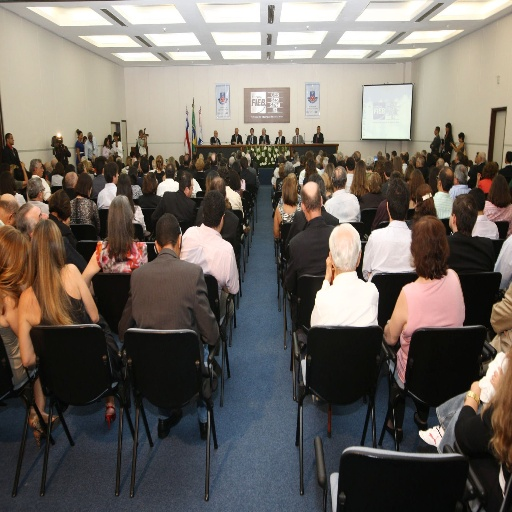hand: (489, 365, 503, 390), (324, 251, 334, 275), (19, 160, 25, 169), (449, 140, 453, 150), (475, 172, 480, 180), (140, 133, 145, 139), (60, 143, 64, 150), (114, 139, 118, 145), (143, 134, 148, 138), (263, 139, 267, 144), (237, 140, 241, 144), (233, 139, 236, 144)
